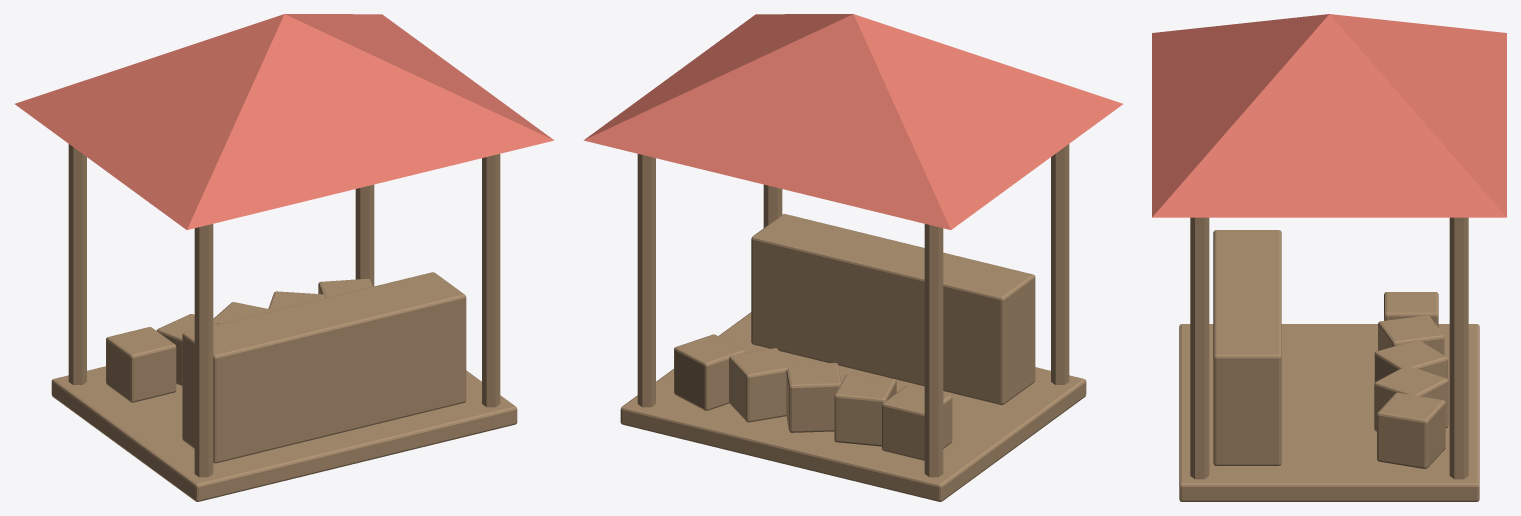
The model's file is shop.glb.
3 renders of one model, left to right at view 1: azimuth 30°, elevation 25°; view 2: azimuth 150°, elevation 25°; view 3: azimuth 270°, elevation 25°, orthographic. The views are drawn at different scales.
Parts seen in each view (by area): view 1: canopy, counter, floor, pole-1-1, pole1-1, crate0, pole-11, pole11, crate1, crate4, crate2, crate3; view 2: canopy, counter, floor, pole-11, pole11, pole-1-1, crate3, crate4, crate1, crate2, crate0, pole1-1; view 3: canopy, floor, counter, pole1-1, pole11, crate4, crate3, crate2, crate1, crate0.
Part boxes in pixels (x1,y1,x2,y2): canopy: [15, 14, 554, 229]; counter: [182, 272, 466, 463]; floor: [51, 366, 517, 501]; pole-1-1: [194, 224, 213, 477]; pole1-1: [482, 154, 500, 407]; crate0: [106, 327, 176, 402]; pole-11: [68, 144, 86, 384]; pole11: [355, 184, 374, 286]; crate1: [156, 314, 218, 385]; crate4: [318, 278, 372, 298]; crate2: [213, 302, 274, 324]; crate3: [268, 291, 324, 310]; canopy: [583, 14, 1122, 229]; counter: [751, 214, 1035, 404]; floor: [620, 312, 1086, 501]; pole-11: [924, 224, 943, 477]; pole11: [637, 154, 655, 407]; pole-1-1: [1051, 144, 1069, 384]; crate3: [729, 348, 791, 422]; crate4: [674, 334, 746, 410]; crate1: [834, 374, 896, 446]; crate2: [786, 363, 841, 432]; crate0: [882, 385, 952, 460]; pole1-1: [763, 184, 782, 227]; canopy: [1152, 14, 1506, 217]; floor: [1179, 324, 1479, 501]; counter: [1213, 230, 1281, 465]; pole1-1: [1190, 217, 1209, 479]; pole11: [1449, 217, 1468, 479]; crate4: [1377, 392, 1445, 468]; crate3: [1374, 367, 1448, 431]; crate2: [1374, 339, 1448, 382]; crate1: [1378, 315, 1444, 355]; crate0: [1384, 292, 1438, 327].
Bounding box in the file's own units: 3.2 × 3.3 × 2.6.
